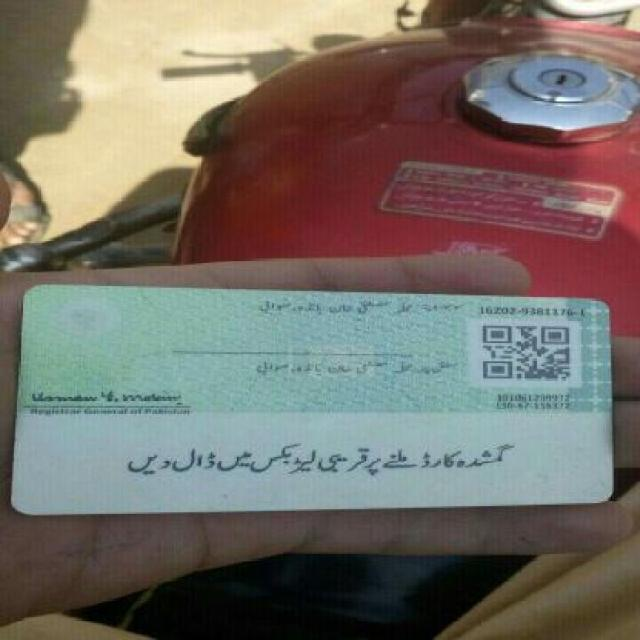Back: (9, 277, 622, 511)
